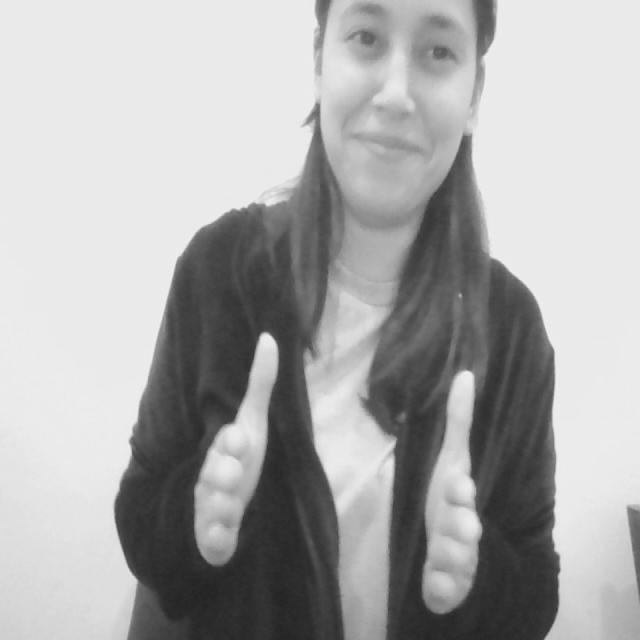Nasil: (182, 320, 502, 620)
